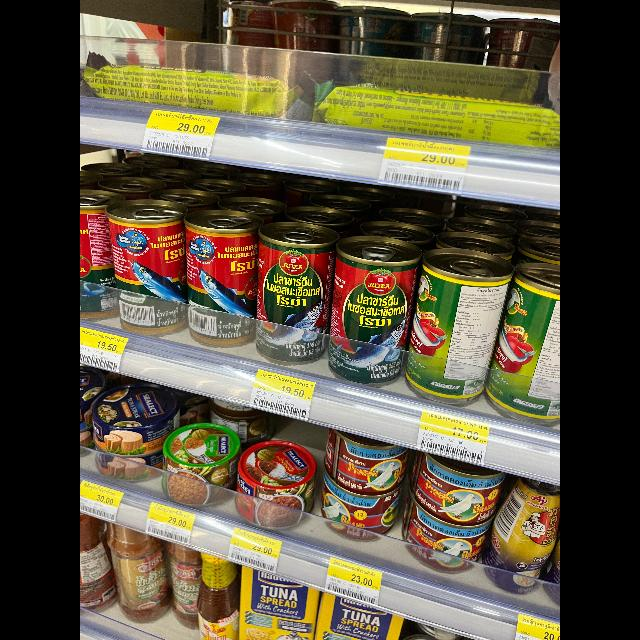can: (388, 246, 514, 402), (318, 230, 419, 376), (472, 257, 560, 417), (235, 228, 338, 362), (170, 210, 264, 342), (104, 198, 190, 329), (302, 432, 408, 538), (398, 457, 492, 569), (230, 435, 316, 533), (88, 375, 180, 463), (156, 421, 246, 509), (80, 186, 118, 310)
